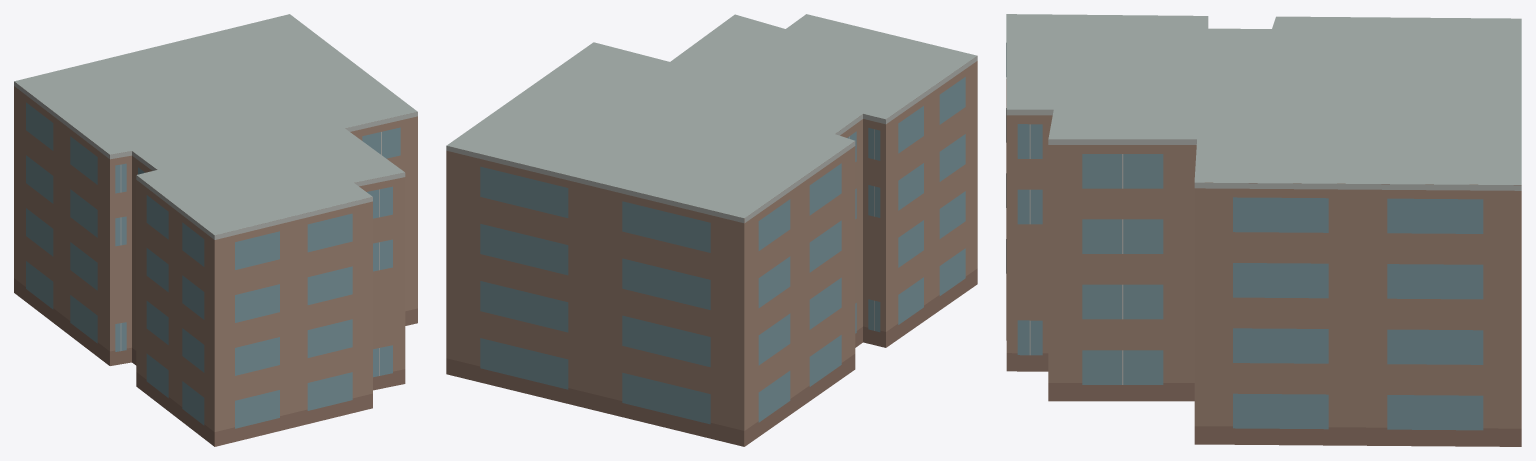
The model's file is survey-upis-32457057.glb.
3 renders of one model, left to right at view 1: azimuth 30°, elevation 25°; view 2: azimuth 150°, elevation 25°; view 3: azimuth 270°, elevation 25°, orthographic. The views are drawn at different scales.
Parts seen in each view (by area): view 1: survey-upis-32457057.tmp; view 2: survey-upis-32457057.tmp; view 3: survey-upis-32457057.tmp.
Boxes of the visible parts, x1,y1,x2,y2 form: survey-upis-32457057.tmp: [14, 14, 417, 446]; survey-upis-32457057.tmp: [446, 14, 977, 446]; survey-upis-32457057.tmp: [1006, 14, 1521, 446].
Size of the model in its own units: 15.57 by 11.1 by 19.82.
